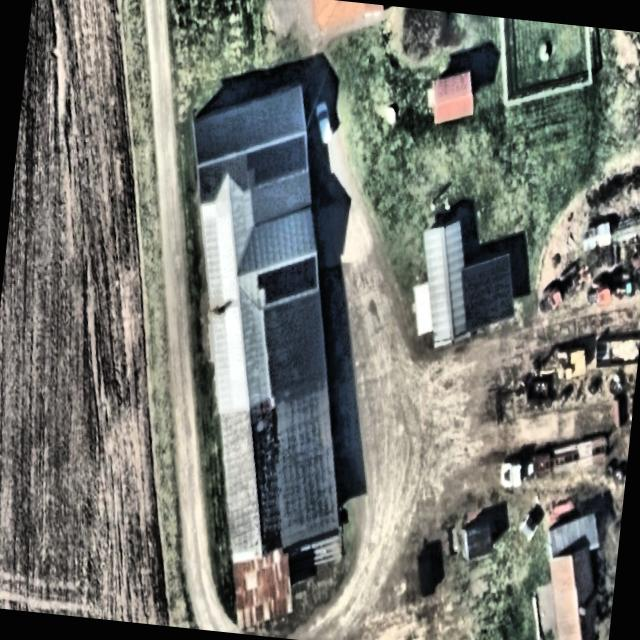roof_pv: (240, 126, 314, 192), (255, 247, 322, 310)
